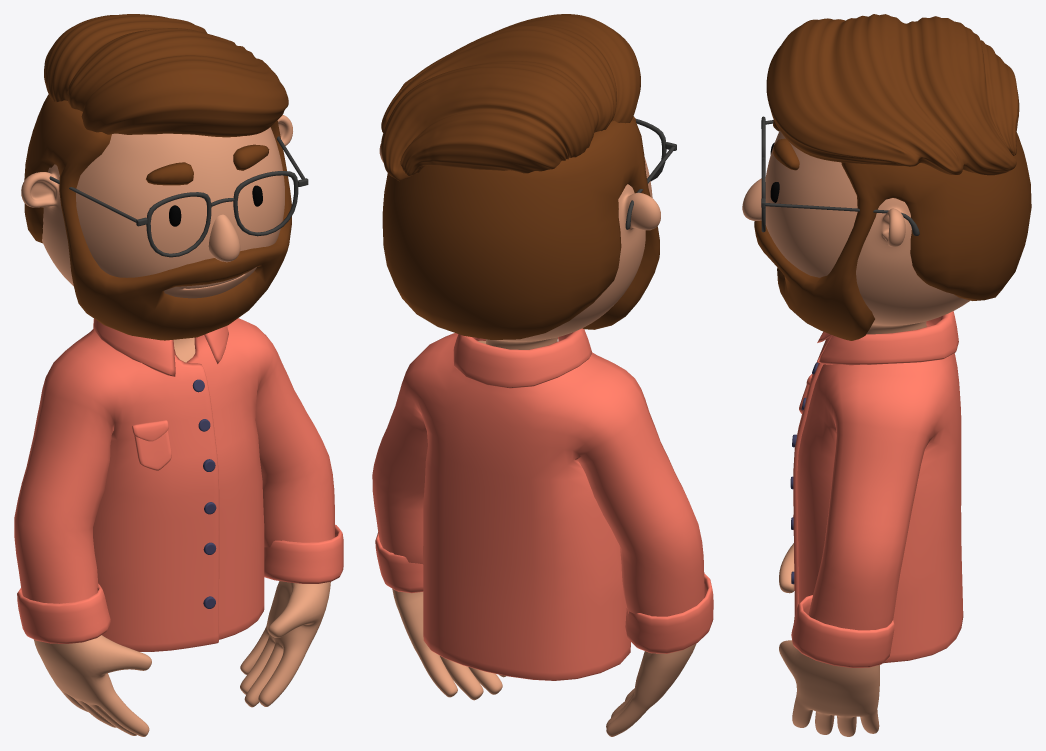
The picture shows the model from 3 angles, left to right: view 1: azimuth 30°, elevation 25°; view 2: azimuth 150°, elevation 25°; view 3: azimuth 270°, elevation 25°; orthographic projection. The views are drawn at different scales.
Parts seen in each view (by area): view 1: Shirt, body, Hair_1, Hair+beard, eyeglass_2, Eyebrow.007, nose; view 2: Shirt, Hair+beard, Hair_1, body, eyeglass_2; view 3: Shirt, Hair_1, Hair+beard, body, eyeglass_2, nose, Eyebrow.007.
Part boxes in pixels (bbox=[...]): Shirt: bbox=[14, 318, 343, 651]; body: bbox=[21, 115, 330, 736]; Hair_1: bbox=[44, 14, 288, 137]; Hair+beard: bbox=[24, 94, 291, 340]; eyeglass_2: bbox=[49, 136, 308, 257]; Eyebrow.007: bbox=[146, 144, 269, 185]; nose: bbox=[208, 214, 240, 262]; Shirt: bbox=[372, 328, 713, 680]; Hair+beard: bbox=[382, 118, 659, 339]; Hair_1: bbox=[381, 14, 640, 181]; body: bbox=[379, 143, 696, 736]; eyeglass_2: bbox=[625, 119, 676, 229]; Shirt: bbox=[790, 311, 963, 667]; Hair_1: bbox=[766, 14, 1019, 175]; Hair+beard: bbox=[754, 132, 1031, 340]; body: bbox=[765, 130, 970, 736]; eyeglass_2: bbox=[761, 116, 919, 235]; nose: bbox=[742, 177, 765, 220]; Eyebrow.007: bbox=[773, 120, 799, 170].
Size of the model in its own units: 6.4 by 13.27 by 5.16.
